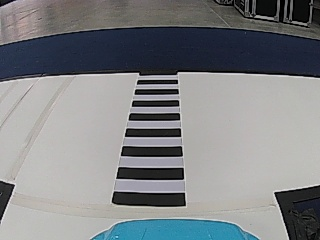CrossWalk: (112, 73, 187, 207)
